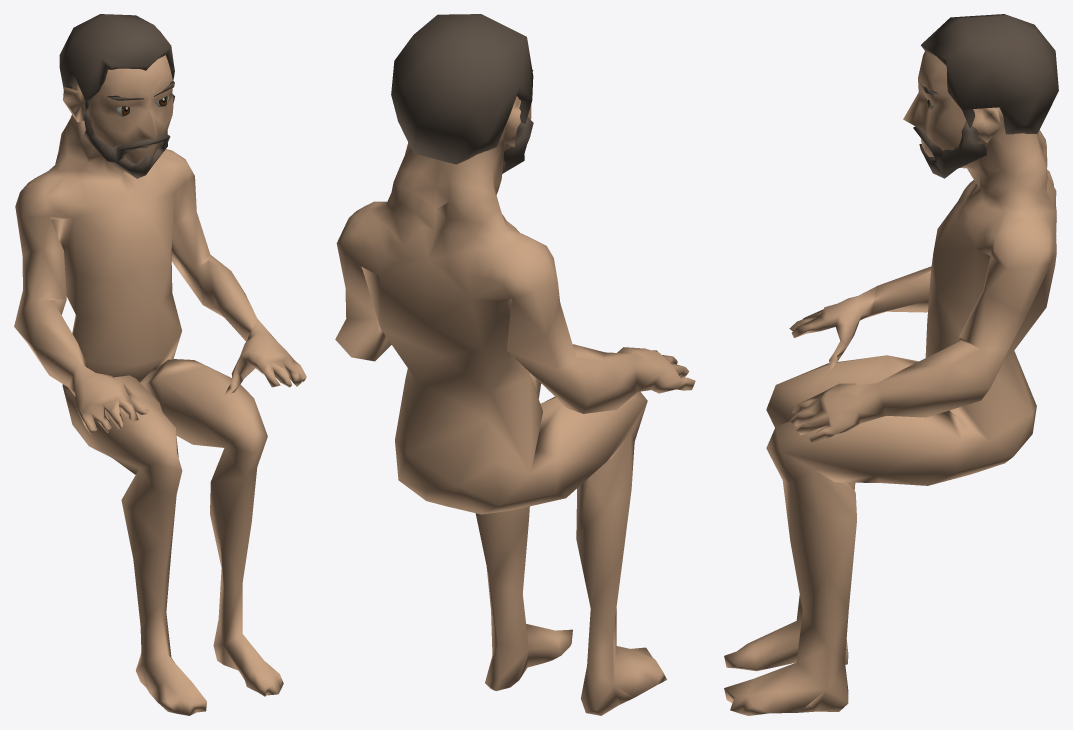
The model's file is npc_seated.glb.
3 views of the same model, side by side, from view 1: azimuth 30°, elevation 25°; view 2: azimuth 150°, elevation 25°; view 3: azimuth 270°, elevation 25° (orthographic). The views are drawn at different scales.
Visible parts, largest first — view 1: npc_seated; view 2: npc_seated; view 3: npc_seated.
Part boxes in pixels (<box>): npc_seated: <box>14,14,306,715</box>; npc_seated: <box>335,14,695,715</box>; npc_seated: <box>724,14,1058,715</box>.
Bounding box in the file's own units: 0.488 × 1.3 × 0.5894.
1 material, 1 textured.
